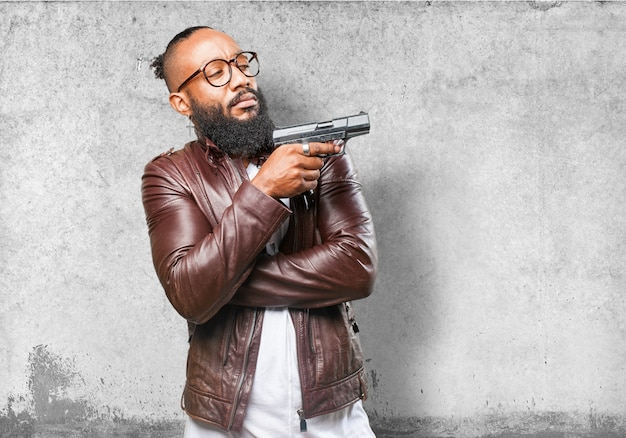gun: (271, 110, 372, 171)
